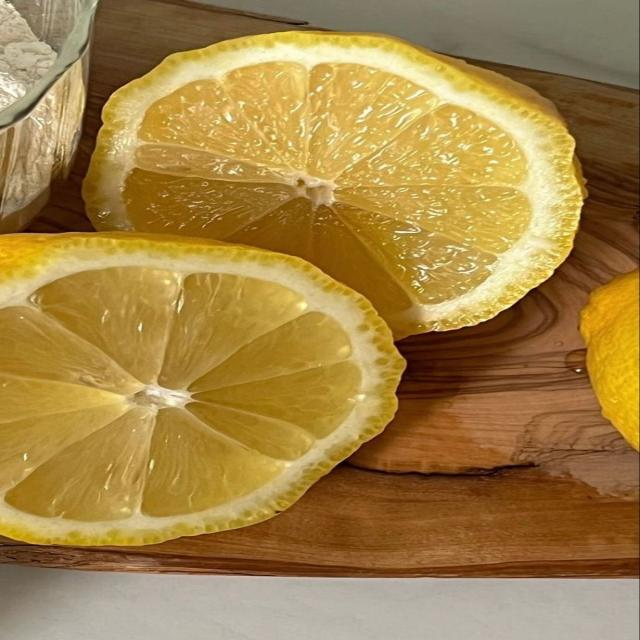lemon: (85, 32, 582, 337), (0, 234, 403, 545), (581, 270, 639, 449)
